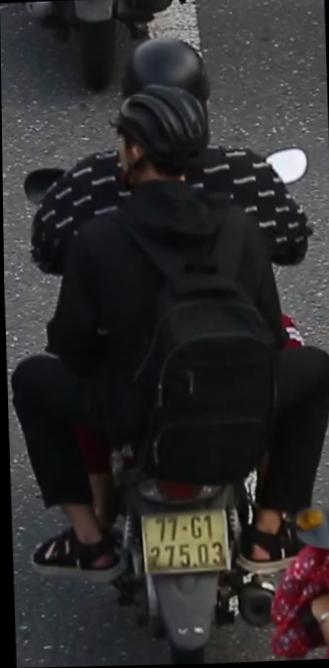LP: (136, 506, 231, 582)
helmet: (102, 83, 213, 202), (129, 33, 216, 103)
